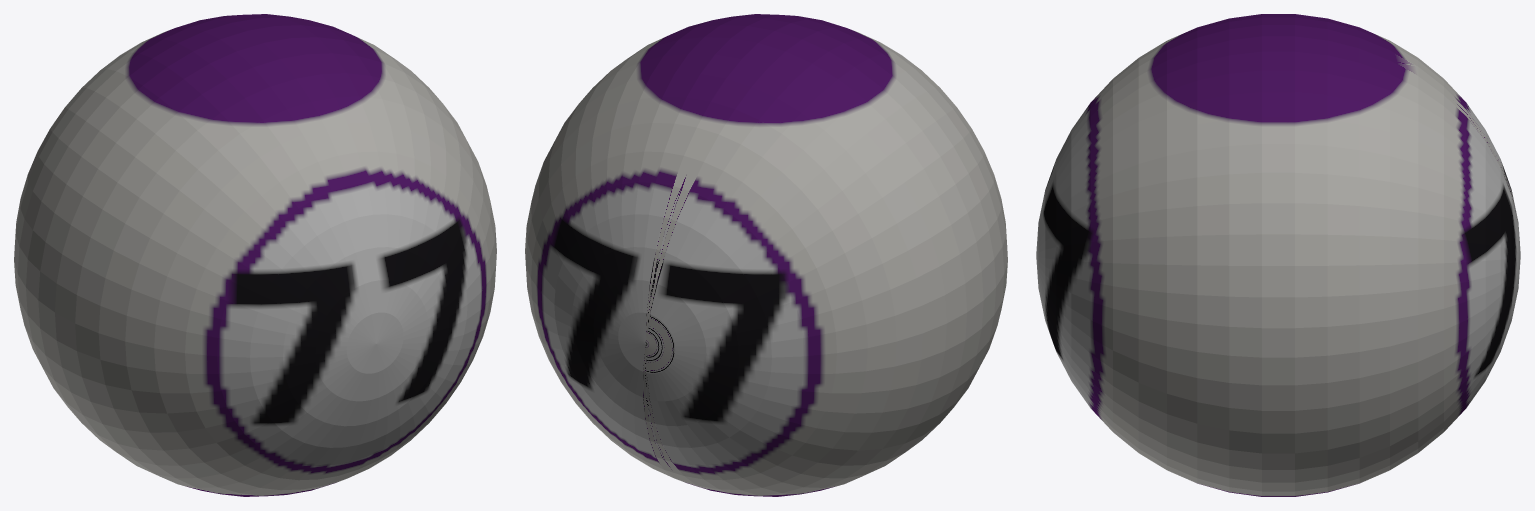
3 renders of one model, left to right at view 1: azimuth 30°, elevation 25°; view 2: azimuth 150°, elevation 25°; view 3: azimuth 270°, elevation 25°, orthographic.
Parts seen in each view (by area): view 1: geometry_0; view 2: geometry_0; view 3: geometry_0.
Boxes of the visible parts, x1=… form: geometry_0: x1=14, y1=14, x2=496, y2=496; geometry_0: x1=525, y1=14, x2=1007, y2=496; geometry_0: x1=1036, y1=14, x2=1520, y2=496.
Bounding box in the file's own units: 0.0599 × 0.0599 × 0.06.
1 material, 1 textured.
